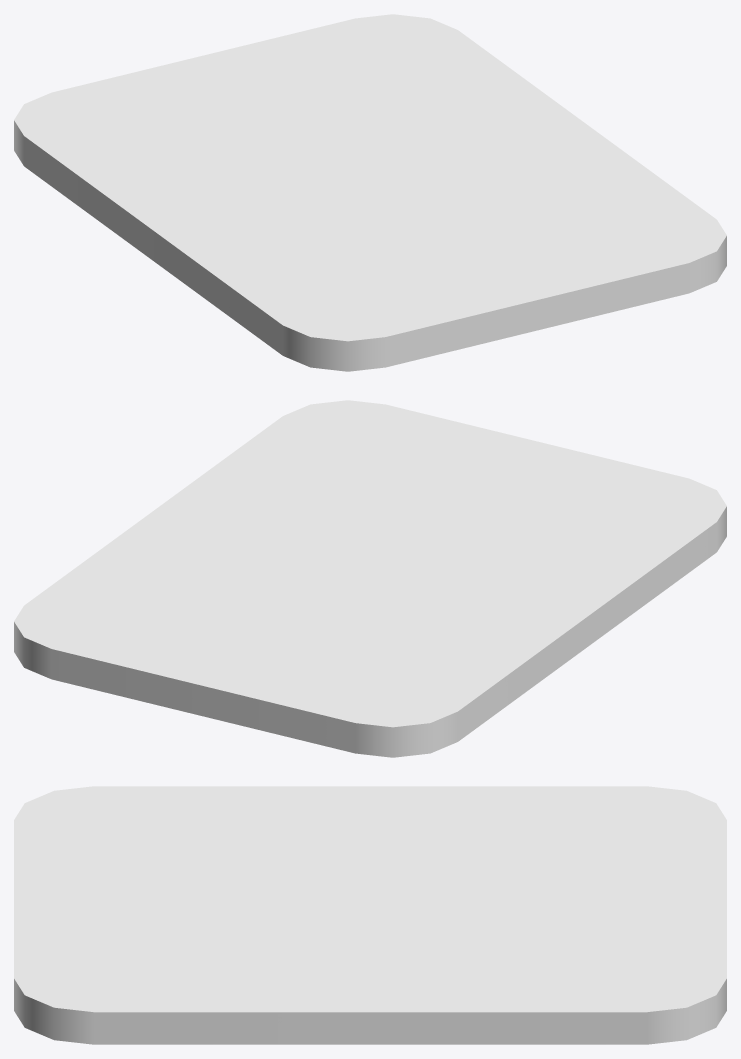
File: card2.fbx
3 views of the same model, one above another, from view 1: azimuth 30°, elevation 25°; view 2: azimuth 150°, elevation 25°; view 3: azimuth 270°, elevation 25° (orthographic). The views are drawn at different scales.
Visible parts, largest first — view 1: card2; view 2: card2; view 3: card2.
Part boxes in pixels (x1,y1,x2,y2): card2: (14, 14, 726, 371); card2: (14, 400, 726, 757); card2: (14, 786, 726, 1044).
Bounding box in the file's own units: 2.6 × 0.1745 × 3.47.
